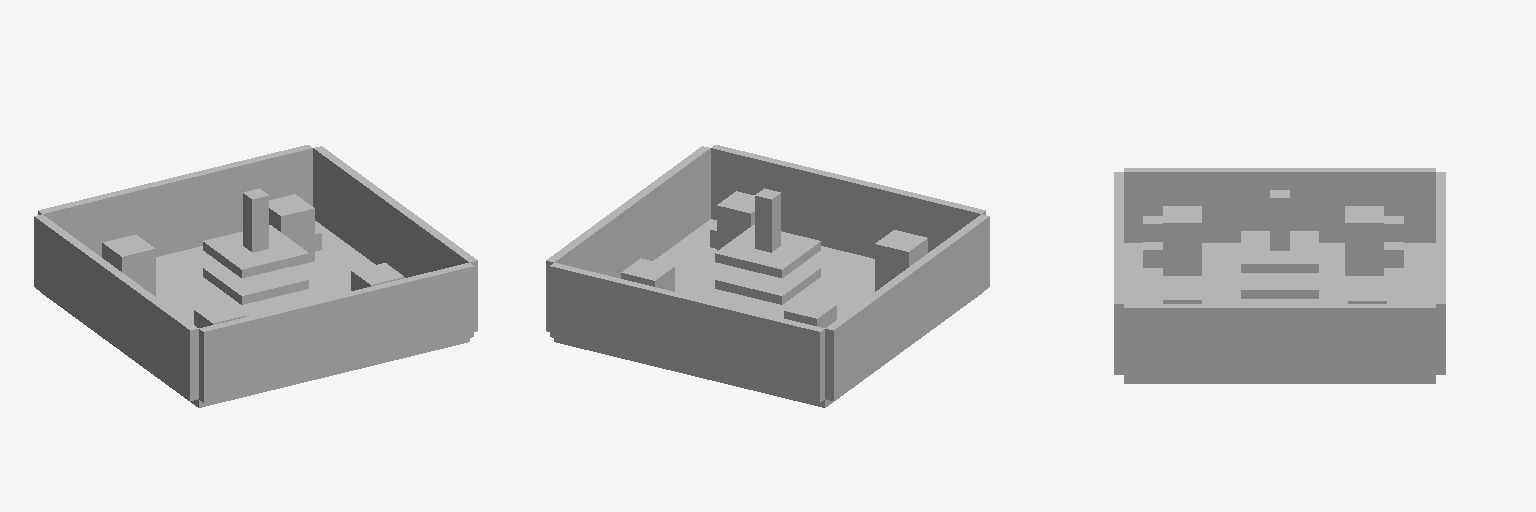
The model's file is map01.obj.
The picture shows the model from 3 angles: view 1: azimuth 30°, elevation 25°; view 2: azimuth 150°, elevation 25°; view 3: azimuth 270°, elevation 25°; orthographic projection.
Visible parts, largest first — view 1: Cube.002_Cube.052, Cube.003_Cube.053, Cube.001_Cube.051, Cube.004_Cube.054, Cube_Cube.050, Cube.030_Cube.081, Cube.029_Cube.080, Cube.023_Cube.074, Cube.010_Cube.061, Cube.022_Cube.073, Cube.011_Cube.062, Cube.033_Cube.084 (+1 smaller); view 2: Cube.003_Cube.053, Cube.002_Cube.052, Cube.001_Cube.051, Cube.004_Cube.054, Cube_Cube.050, Cube.030_Cube.081, Cube.029_Cube.080, Cube.011_Cube.062, Cube.022_Cube.073, Cube.023_Cube.074, Cube.010_Cube.061, Cube.033_Cube.084; view 3: Cube.004_Cube.054, Cube.001_Cube.051, Cube_Cube.050, Cube.030_Cube.081, Cube.003_Cube.053, Cube.002_Cube.052, Cube.029_Cube.080, Cube.024_Cube.075, Cube.023_Cube.074, Cube.012_Cube.063, Cube.011_Cube.062, Cube.022_Cube.073 (+1 smaller).
Part boxes in pixels (left/top/right/bottom): Cube.002_Cube.052: left=199, top=262, right=473, bottom=402; Cube.003_Cube.053: left=38, top=145, right=312, bottom=256; Cube.001_Cube.051: left=34, top=214, right=198, bottom=400; Cube.004_Cube.054: left=313, top=146, right=477, bottom=331; Cube_Cube.050: left=42, top=221, right=469, bottom=407; Cube.030_Cube.081: left=203, top=225, right=308, bottom=277; Cube.029_Cube.080: left=203, top=263, right=308, bottom=304; Cube.023_Cube.074: left=102, top=235, right=155, bottom=273; Cube.010_Cube.061: left=269, top=194, right=314, bottom=233; Cube.022_Cube.073: left=351, top=263, right=404, bottom=290; Cube.011_Cube.062: left=194, top=301, right=246, bottom=327; Cube.033_Cube.084: left=243, top=188, right=268, bottom=216; Cube.003_Cube.053: left=550, top=262, right=824, bottom=402; Cube.002_Cube.052: left=711, top=145, right=985, bottom=258; Cube.001_Cube.051: left=825, top=214, right=989, bottom=400; Cube.004_Cube.054: left=546, top=146, right=710, bottom=331; Cube_Cube.050: left=554, top=219, right=981, bottom=407; Cube.030_Cube.081: left=715, top=225, right=820, bottom=277; Cube.029_Cube.080: left=715, top=263, right=820, bottom=304; Cube.011_Cube.062: left=875, top=230, right=927, bottom=268; Cube.022_Cube.073: left=717, top=191, right=754, bottom=229; Cube.023_Cube.074: left=784, top=296, right=836, bottom=327; Cube.010_Cube.061: left=621, top=258, right=674, bottom=289; Cube.033_Cube.084: left=755, top=188, right=780, bottom=216; Cube.004_Cube.054: left=1124, top=304, right=1435, bottom=378; Cube.001_Cube.051: left=1124, top=168, right=1435, bottom=242; Cube_Cube.050: left=1124, top=243, right=1435, bottom=383; Cube.030_Cube.081: left=1241, top=231, right=1318, bottom=272; Cube.003_Cube.053: left=1436, top=172, right=1445, bottom=374; Cube.002_Cube.052: left=1114, top=172, right=1123, bottom=374; Cube.029_Cube.080: left=1241, top=273, right=1318, bottom=298; Cube.024_Cube.075: left=1345, top=241, right=1383, bottom=275; Cube.023_Cube.074: left=1345, top=206, right=1383, bottom=240; Cube.012_Cube.063: left=1163, top=241, right=1201, bottom=275; Cube.011_Cube.062: left=1163, top=206, right=1201, bottom=240; Cube.022_Cube.073: left=1163, top=284, right=1201, bottom=303.
Size of the model in its own units: 68 by 28 by 68.